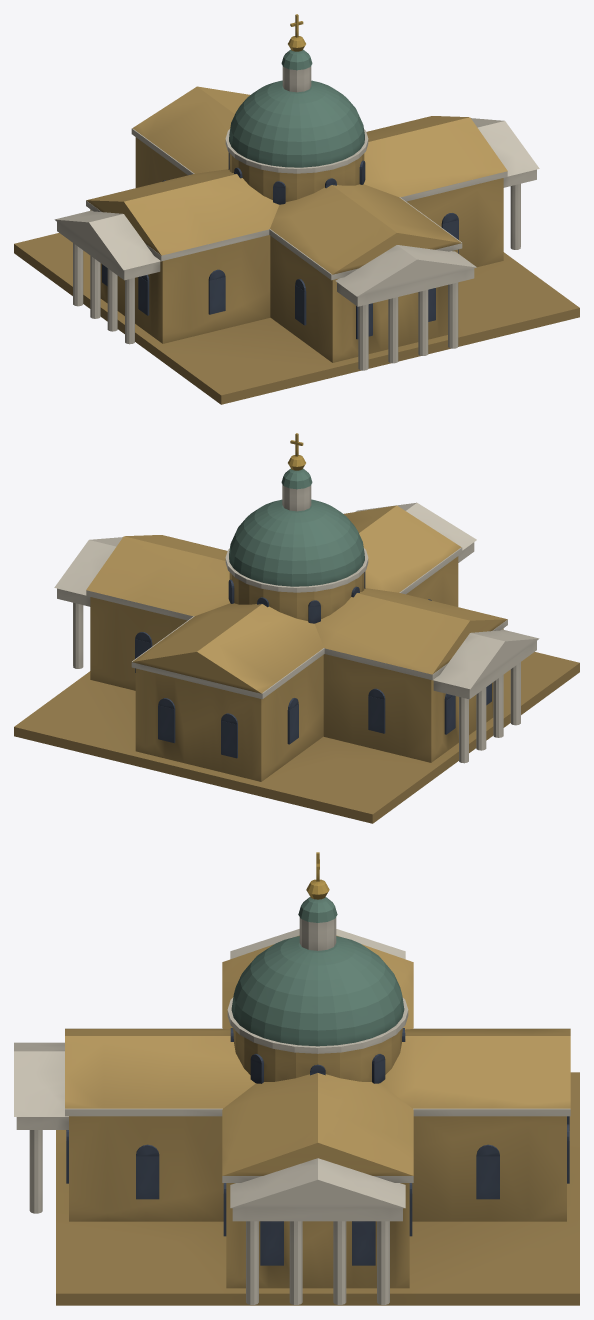
Rendered from st-james-church.glb.
3 views of the same model, one above another, from view 1: azimuth 30°, elevation 25°; view 2: azimuth 150°, elevation 25°; view 3: azimuth 270°, elevation 25° (orthographic). The views are drawn at different scales.
Parts seen in each view (by area): view 1: p1_roofs, p0_body, p2_dome; view 2: p0_body, p1_roofs, p2_dome; view 3: p0_body, p1_roofs, p2_dome.
Part boxes in pixels (x1,y1,x2,y2): p1_roofs: [54, 86, 539, 370]; p0_body: [14, 128, 579, 404]; p2_dome: [225, 14, 368, 204]; p0_body: [14, 547, 579, 823]; p1_roofs: [54, 502, 539, 763]; p2_dome: [225, 433, 368, 623]; p0_body: [56, 1028, 579, 1305]; p1_roofs: [14, 929, 570, 1304]; p2_dome: [227, 852, 408, 1083].
Bounding box in the file's own units: 46.4 × 28.8 × 43.2.
